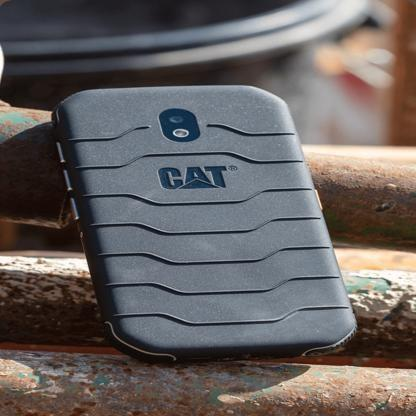not trash: (52, 71, 360, 369)
